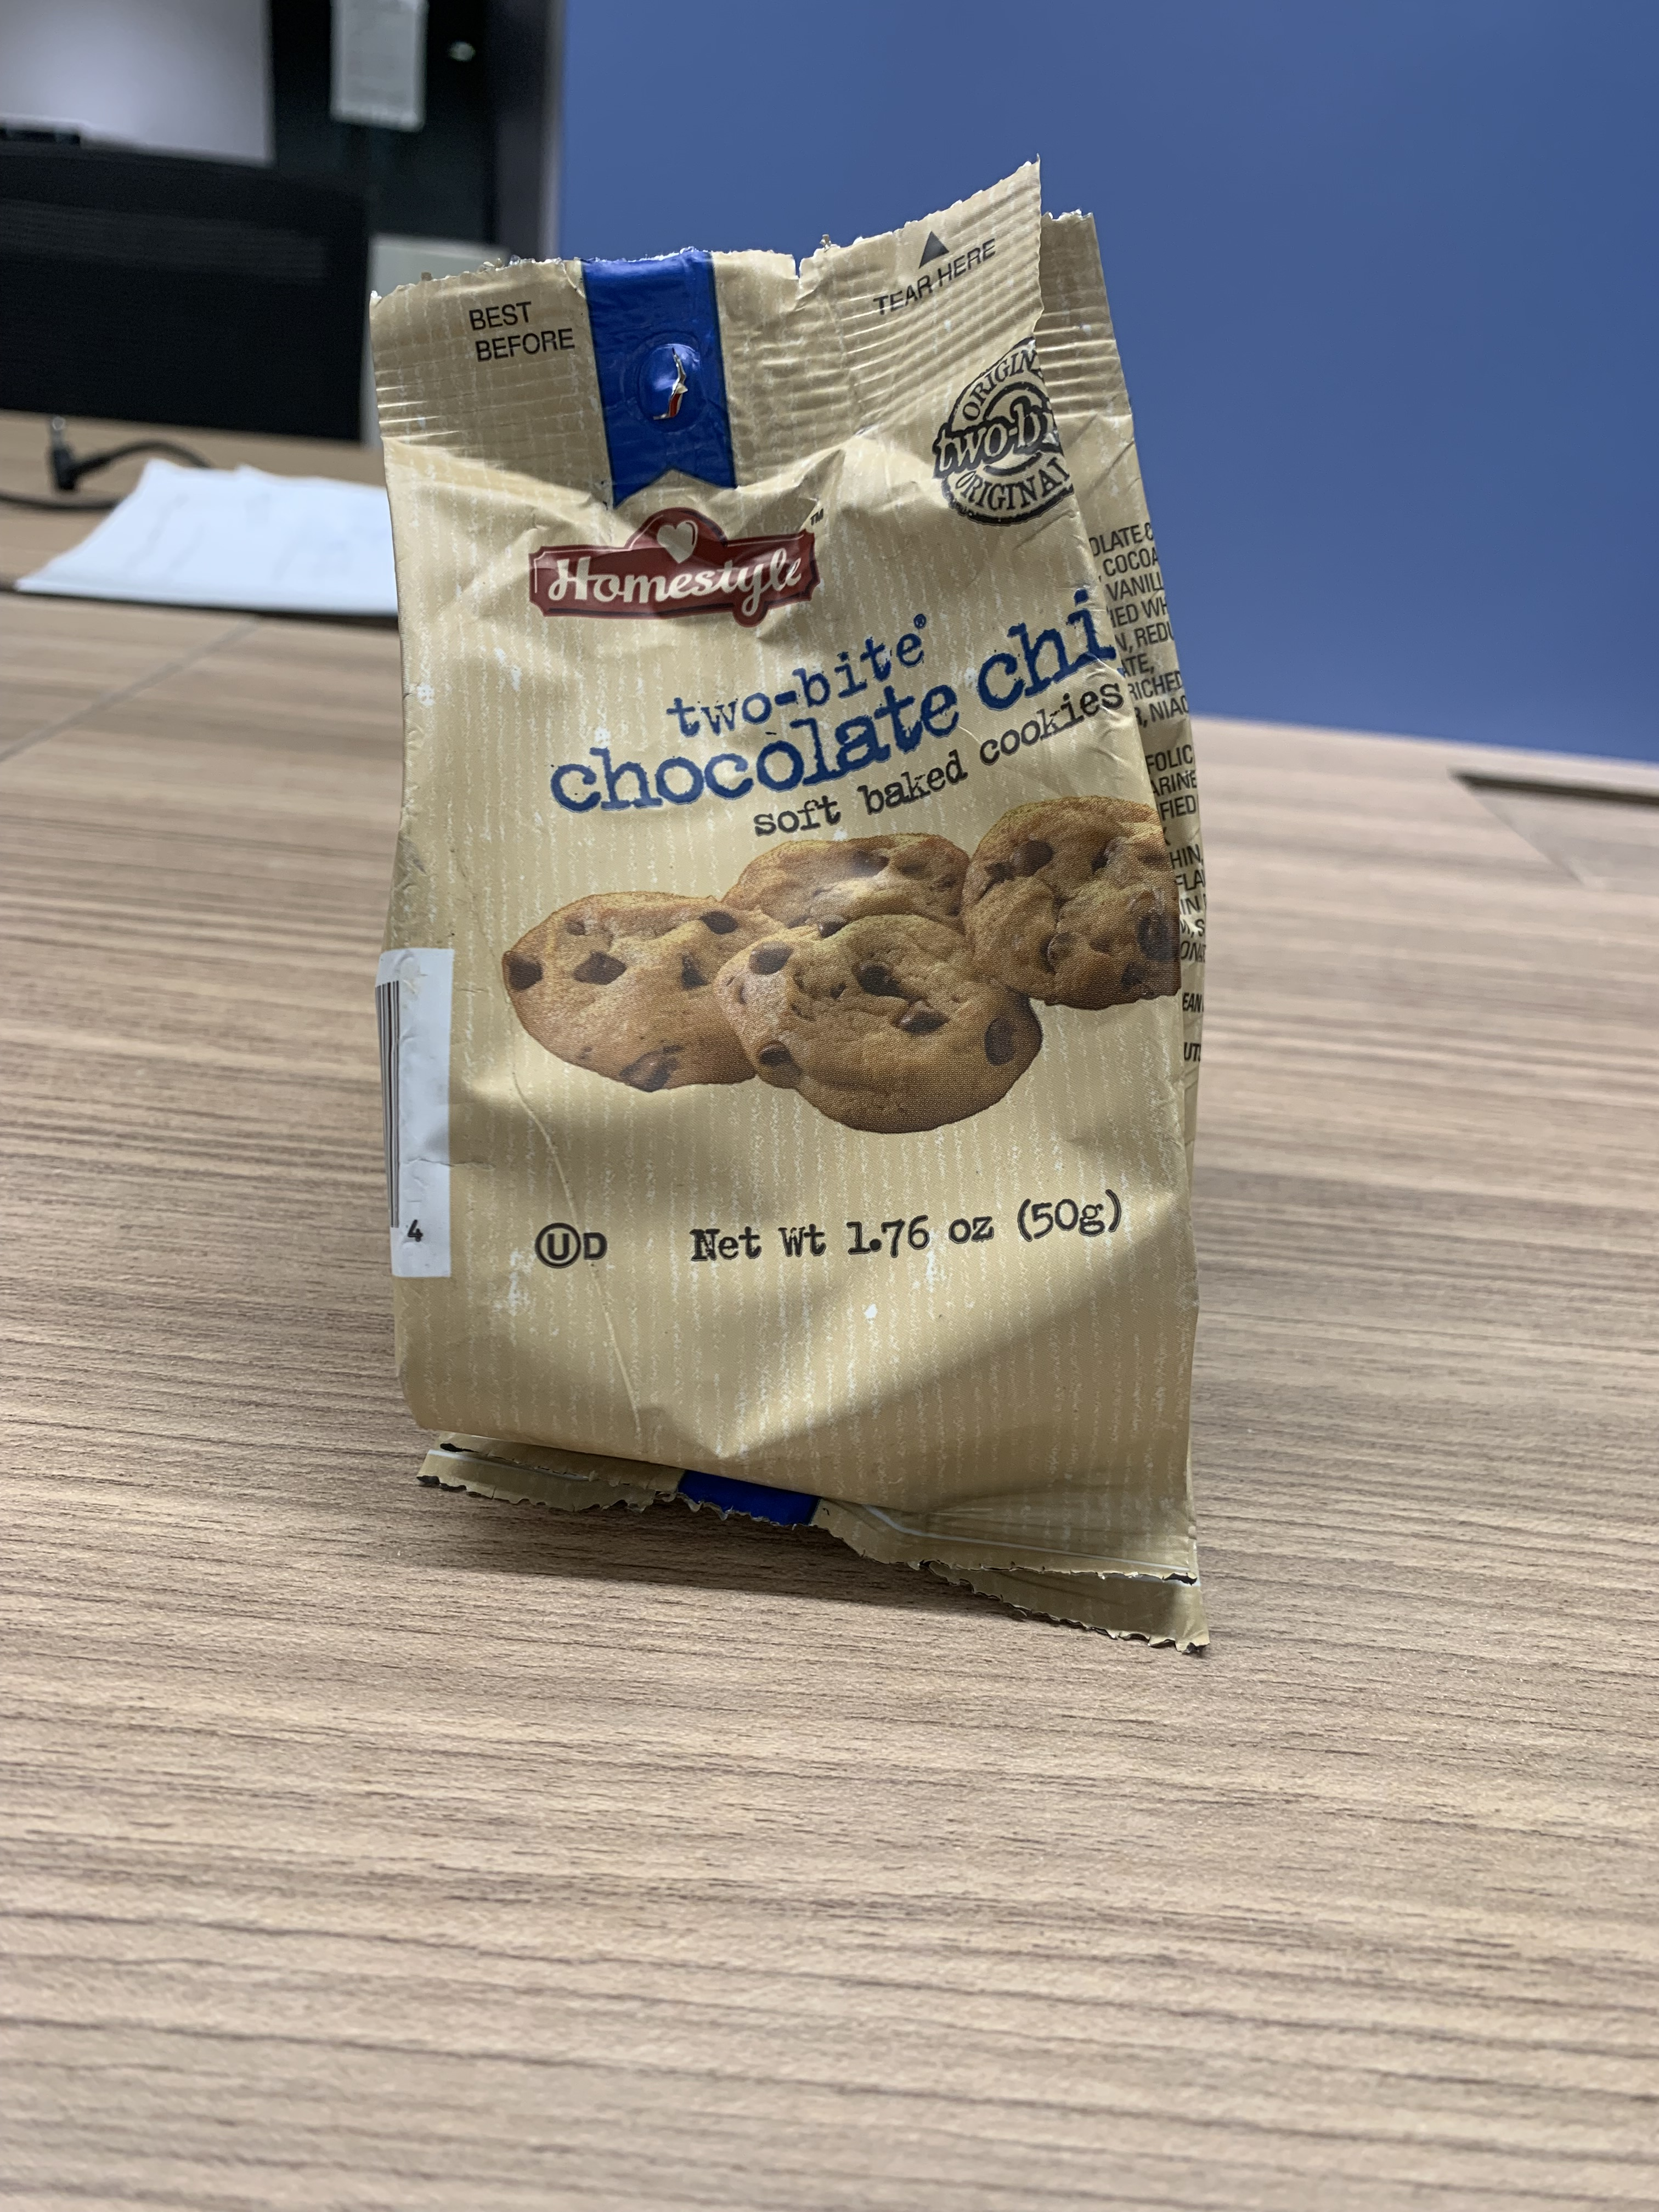cookies: (329, 131, 1230, 1679)
